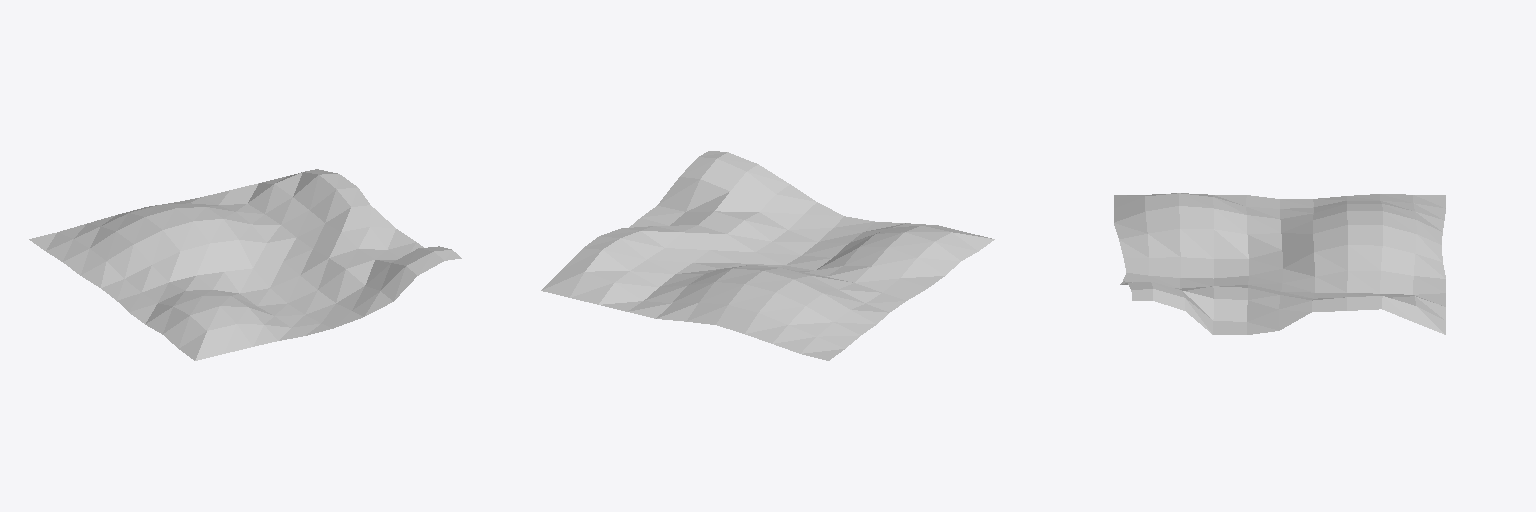
The model's file is coarse_ground.obj.
The picture shows the model from 3 angles: view 1: azimuth 30°, elevation 25°; view 2: azimuth 150°, elevation 25°; view 3: azimuth 270°, elevation 25°; orthographic projection.
Visible parts, largest first — view 1: pPlane1; view 2: pPlane1; view 3: pPlane1.
Part boxes in pixels (left/top/right/bottom): pPlane1: left=29, top=169, right=461, bottom=360; pPlane1: left=541, top=151, right=994, bottom=360; pPlane1: left=1114, top=193, right=1445, bottom=334.
Bounding box in the file's own units: 116 × 17.82 × 116.